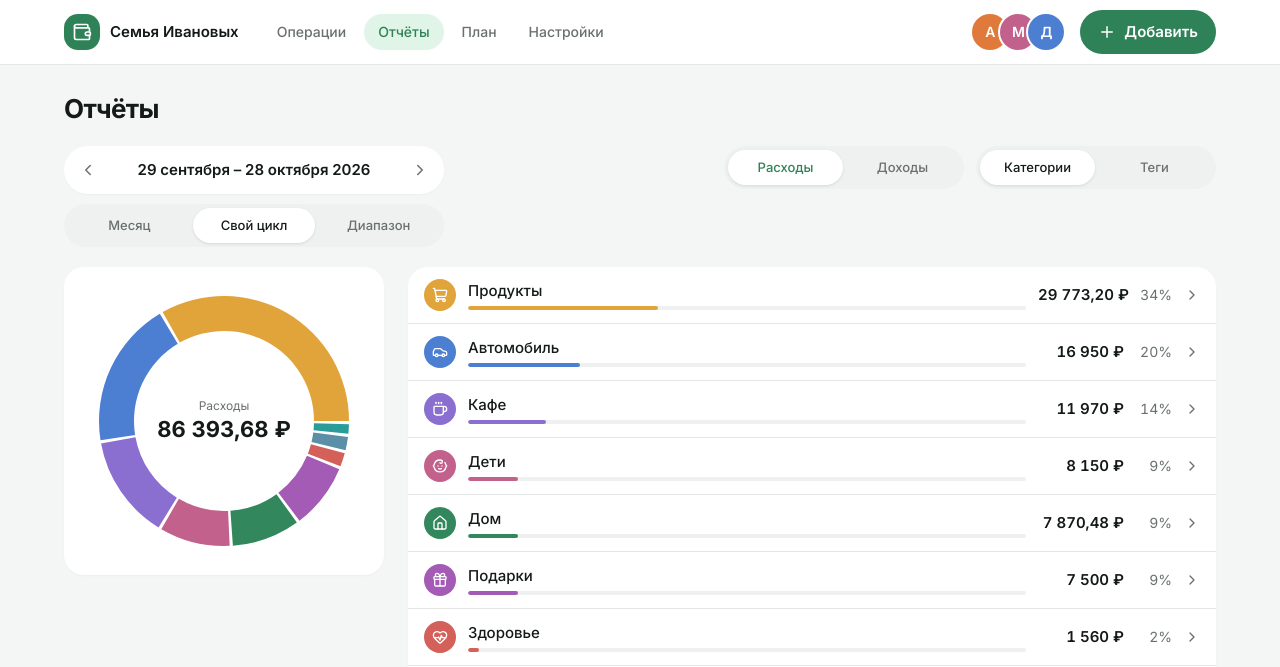
Test: Экран «Отчёты» › вкладка «Теги» с пояснением о повторном учёте
Click the radio button labelled "Теги". click: (1154, 167)
box: [1097,150,1212,185]
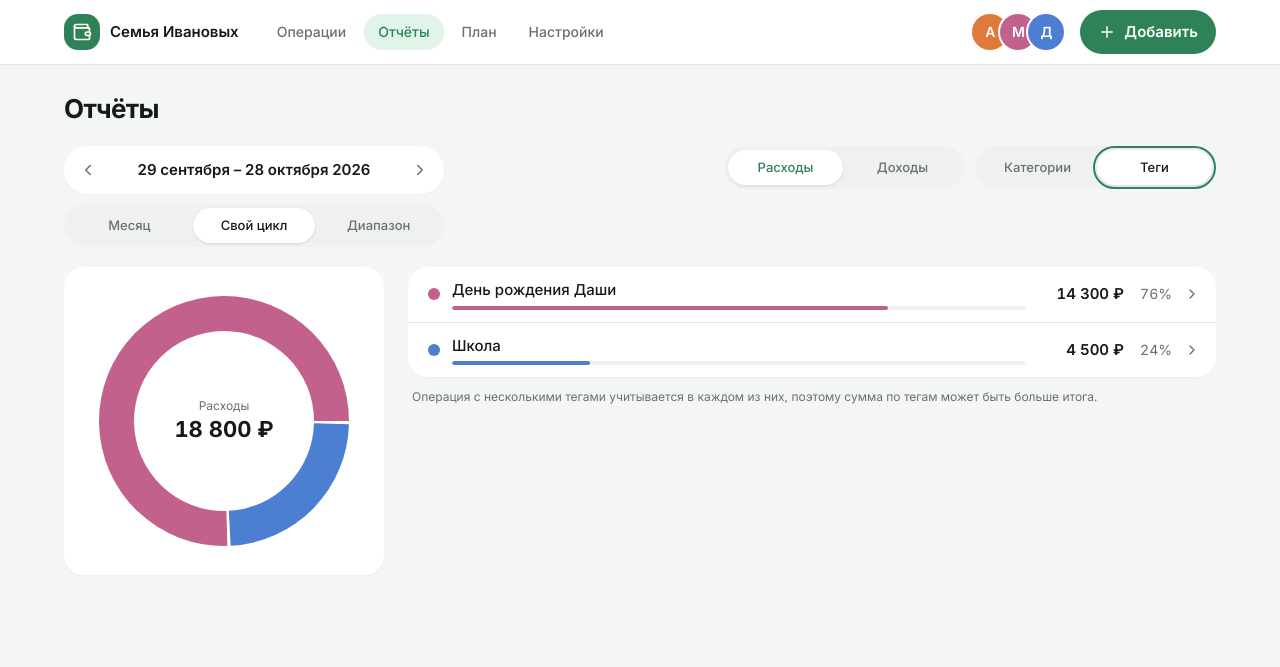
Now the text "учитывается в каждом из них" is shown, box [412,389,1098,404]
